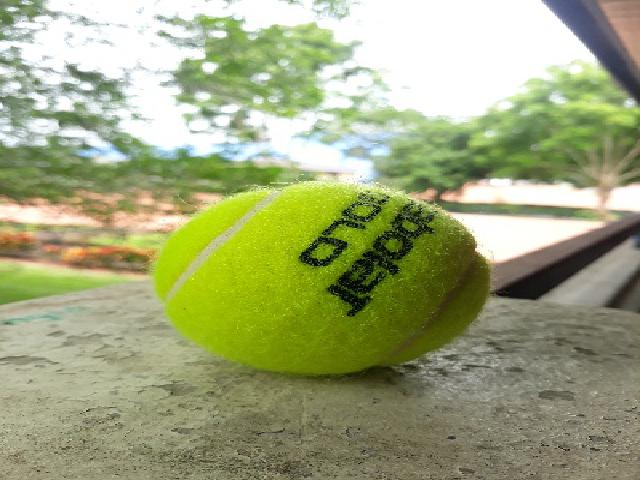Ball: (150, 179, 488, 376)
